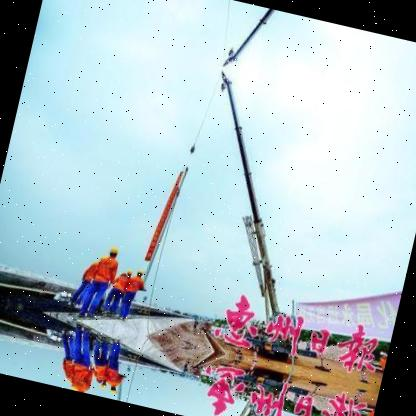capacete: (109, 245, 120, 256), (100, 254, 108, 264), (136, 268, 145, 274), (127, 269, 134, 274)
